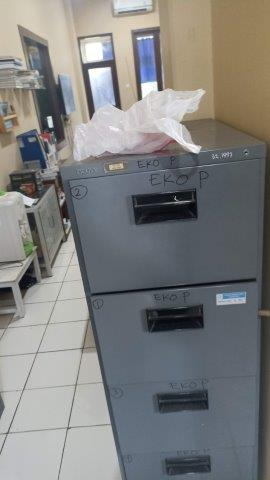plastik: (71, 87, 208, 157)
